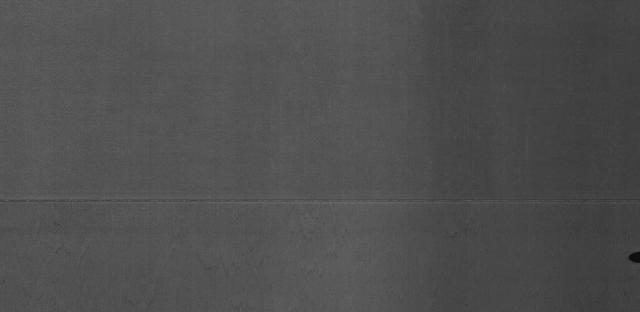punching_hole: (627, 248, 640, 266)
welding_line: (1, 189, 638, 211)
